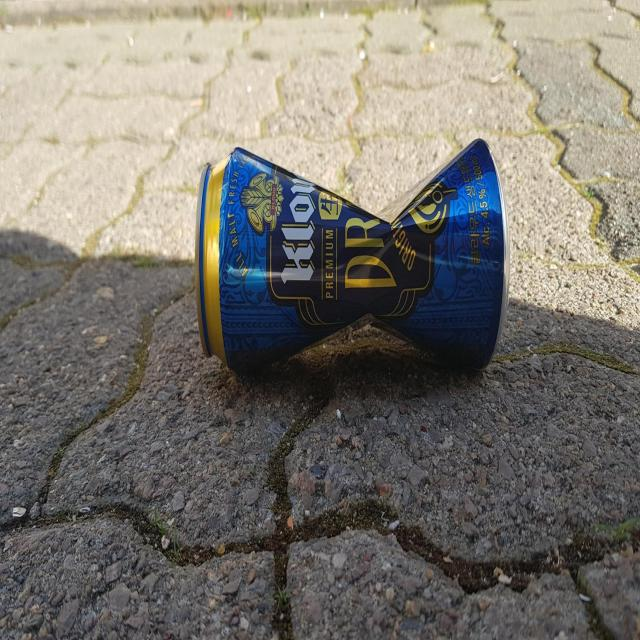can: (195, 138, 510, 371)
